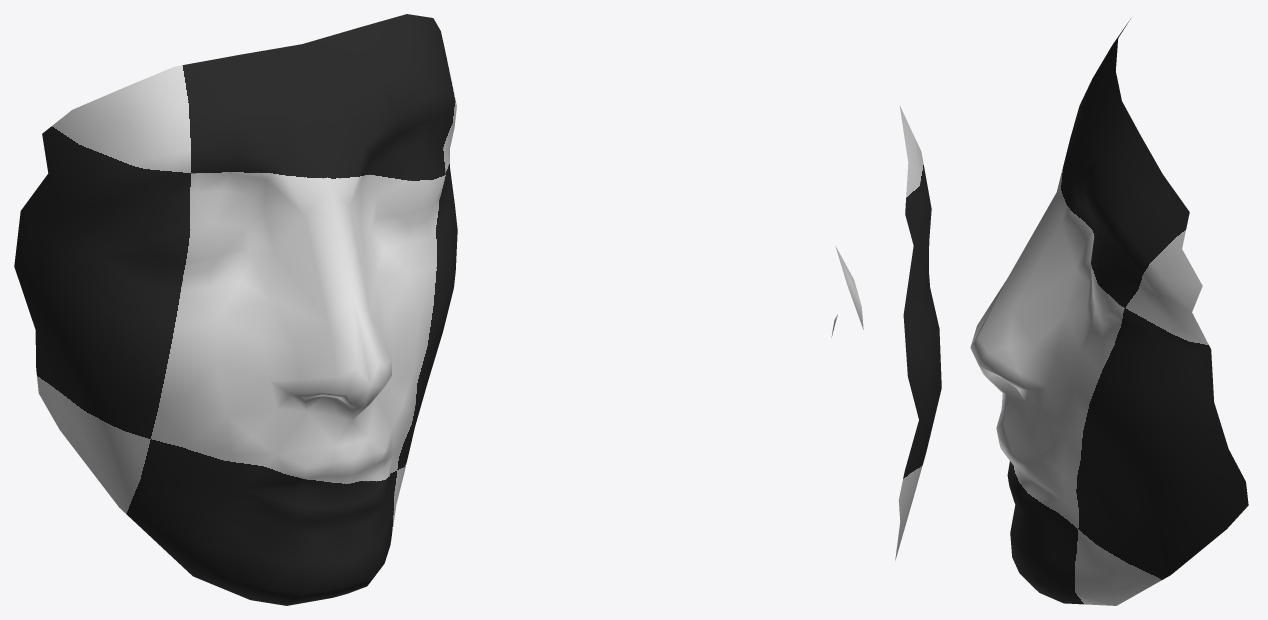
The model's file is cgalref_nefertiti_heat_result.glb.
3 views of the same model, side by side, from view 1: azimuth 30°, elevation 25°; view 2: azimuth 150°, elevation 25°; view 3: azimuth 270°, elevation 25° (orthographic). The views are drawn at different scales.
Parts seen in each view (by area): view 1: parameterized_mesh; view 2: parameterized_mesh; view 3: parameterized_mesh.
Part boxes in pixels (x1=…): parameterized_mesh: x1=14, y1=14, x2=457, y2=605; parameterized_mesh: x1=831, y1=105, x2=941, y2=560; parameterized_mesh: x1=970, y1=19, x2=1248, y2=605.
Size of the model in its own units: 80.29 by 100 by 48.94.
1 material, 1 textured.
